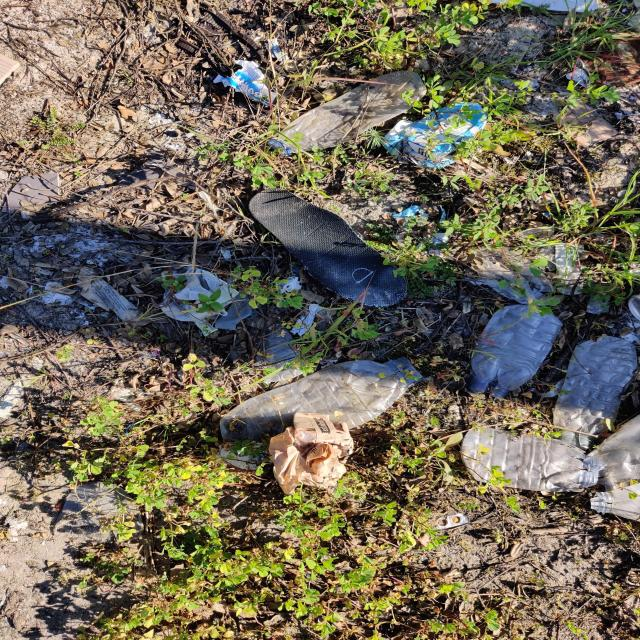litter: (470, 296, 561, 391)
